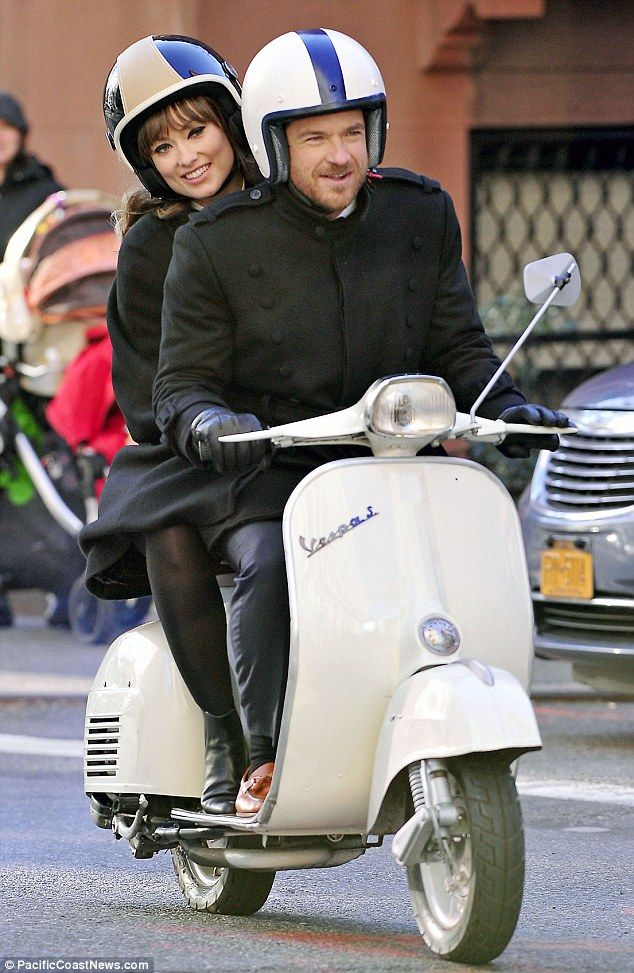with_helmet: (238, 38, 395, 179), (99, 39, 243, 181)
